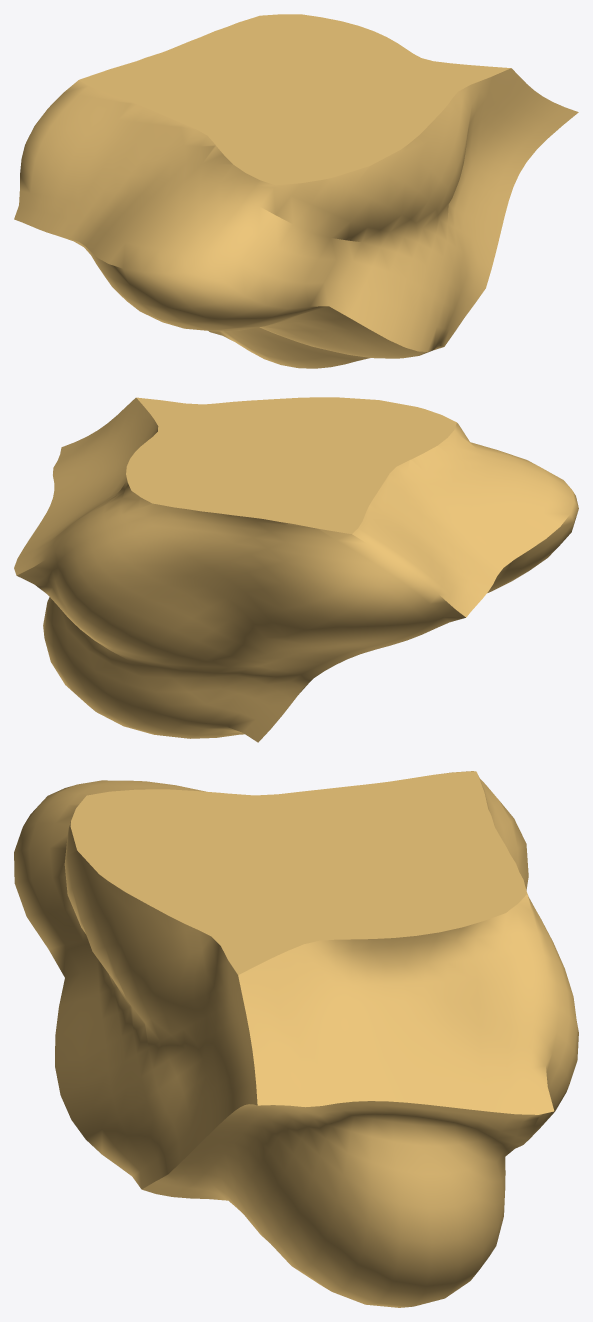
Rendered from Blonk.glb.
The picture shows the model from 3 angles, top to bottom: view 1: azimuth 30°, elevation 25°; view 2: azimuth 150°, elevation 25°; view 3: azimuth 270°, elevation 25°; orthographic projection. The views are drawn at different scales.
Parts seen in each view (by area): view 1: Cube.001; view 2: Cube.001; view 3: Cube.001.
Boxes of the visible parts, <box> form: Cube.001: <box>14,14,578,368</box>; Cube.001: <box>14,397,578,742</box>; Cube.001: <box>14,771,578,1307</box>.
Size of the model in its own units: 4.22 by 2.35 by 3.25.
